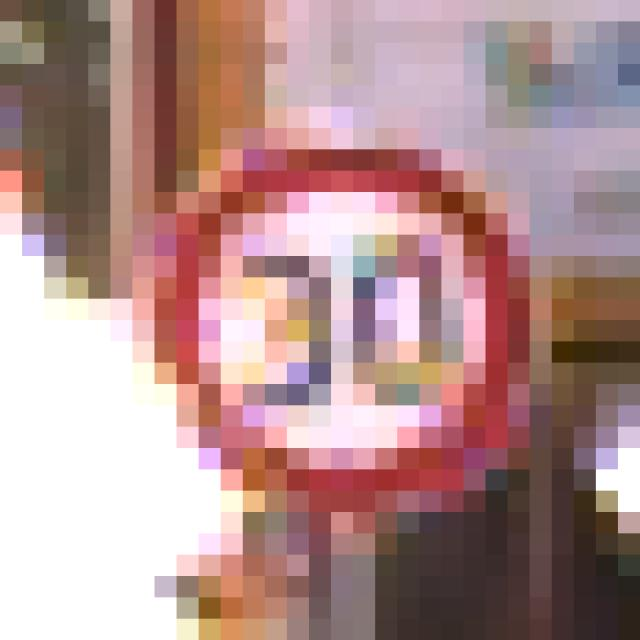Speed Limit -30-: (99, 96, 519, 523)
